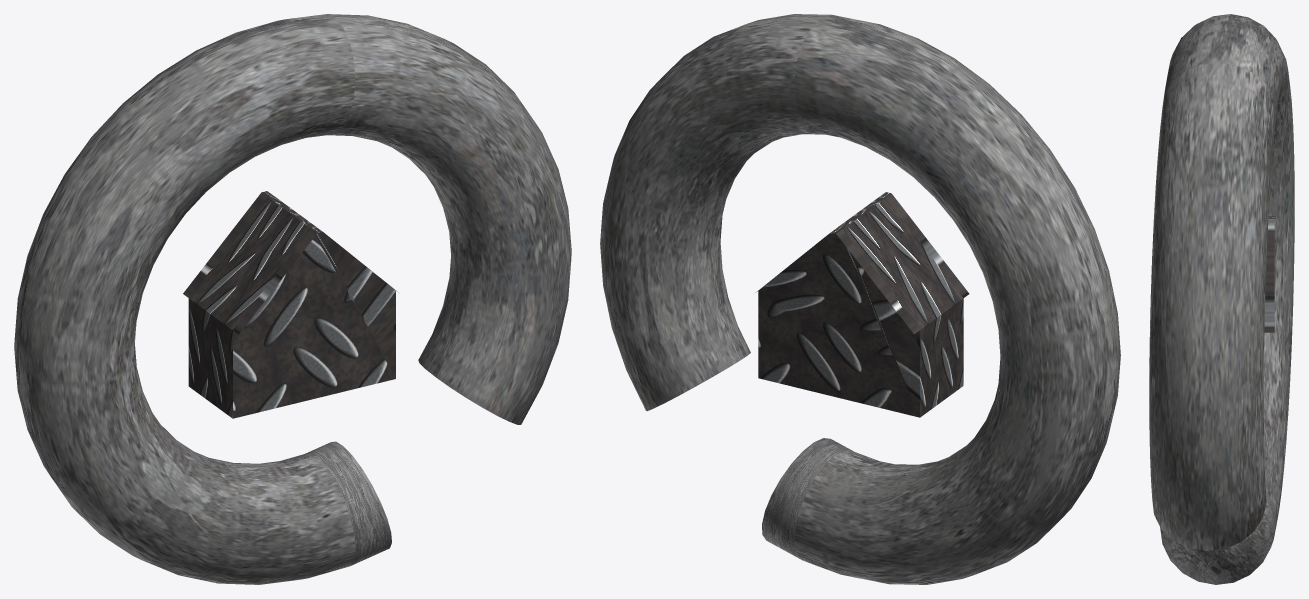
File: CenterButton.fbx
The picture shows the model from 3 angles, left to right: view 1: azimuth 30°, elevation 25°; view 2: azimuth 150°, elevation 25°; view 3: azimuth 270°, elevation 25°; orthographic projection. The views are drawn at different scales.
Visible parts, largest first — view 1: Cube.001; view 2: Cube.001; view 3: Cube.001.
Part boxes in pixels (x1,y1,x2,y2): Cube.001: (14,14,571,584); Cube.001: (600,14,1120,584); Cube.001: (1149,14,1294,584).
Size of the model in its own units: 1031 by 1033 by 262.
1 material, 1 textured.
